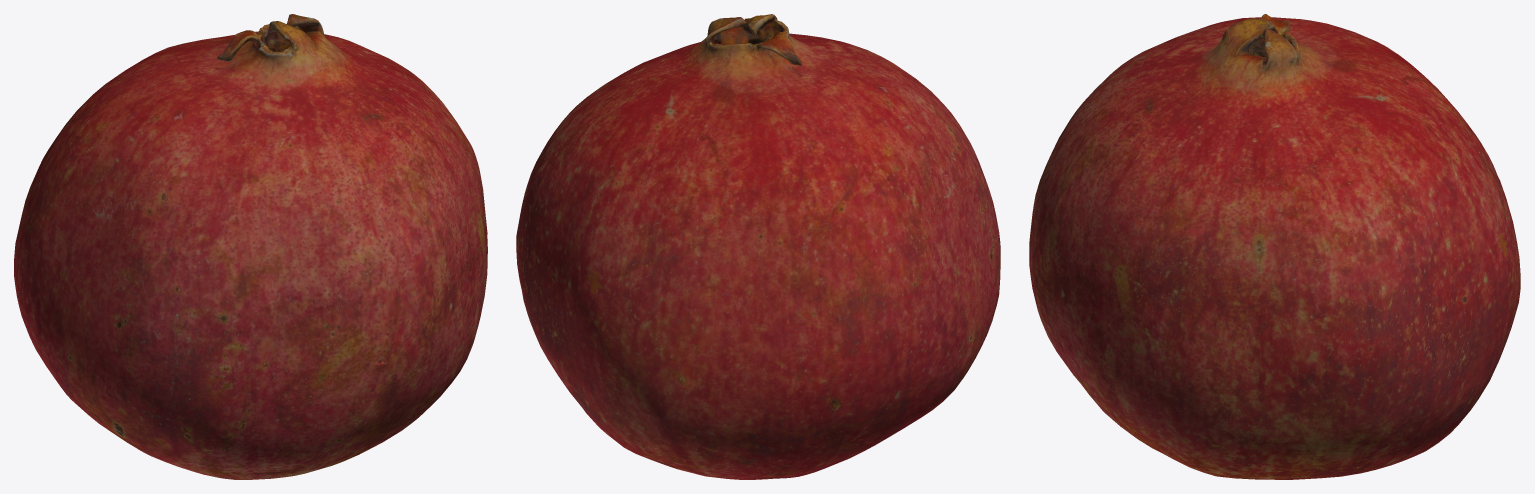
File: pomegranate.glb
3 views of the same model, side by side, from view 1: azimuth 30°, elevation 25°; view 2: azimuth 150°, elevation 25°; view 3: azimuth 270°, elevation 25° (orthographic). The views are drawn at different scales.
Visible parts, largest first — view 1: food_pomegranate_01; view 2: food_pomegranate_01; view 3: food_pomegranate_01.
Part boxes in pixels (box(x1,y1,x2,y2)): food_pomegranate_01: box(14, 14, 487, 479); food_pomegranate_01: box(516, 14, 1000, 479); food_pomegranate_01: box(1029, 14, 1520, 479).
Size of the model in its own units: 1.95 by 1.96 by 1.97.
Materials: 1 (1 with a texture image).
